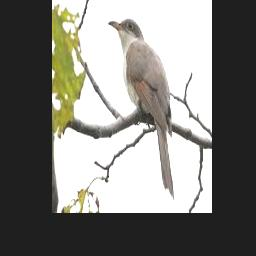Cuckoo: (108, 18, 174, 199)
